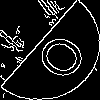O: (25, 25, 91, 84)
